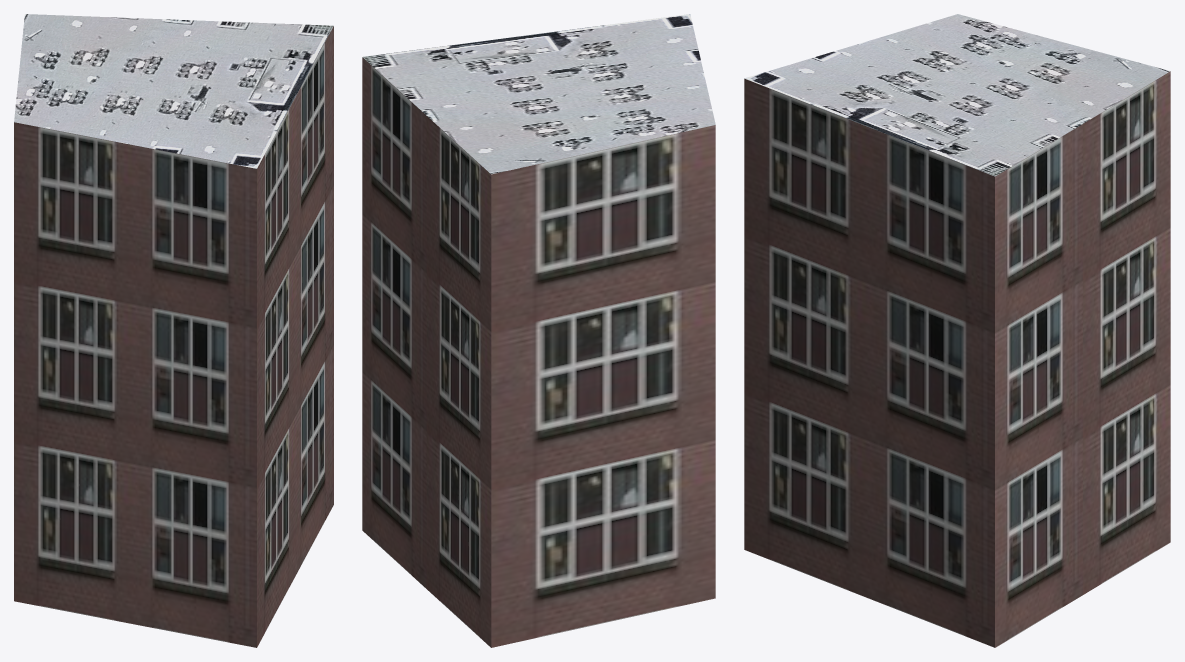
The model's file is ResTex__4886.fbx.
3 views of the same model, side by side, from view 1: azimuth 30°, elevation 25°; view 2: azimuth 150°, elevation 25°; view 3: azimuth 270°, elevation 25° (orthographic).
Visible parts, largest first — view 1: CityEngineMaterial_12_m, CityEngineMaterial_m; view 2: CityEngineMaterial_12_m, CityEngineMaterial_m; view 3: CityEngineMaterial_12_m, CityEngineMaterial_m.
Part boxes in pixels (x1,y1,x2,y2): CityEngineMaterial_12_m: (14,26,333,647); CityEngineMaterial_m: (14,14,333,168); CityEngineMaterial_12_m: (362,57,715,647); CityEngineMaterial_m: (362,14,715,174); CityEngineMaterial_12_m: (744,71,1170,647); CityEngineMaterial_m: (744,14,1170,176).
Size of the model in its own units: 6.66 by 9 by 7.38.
2 materials, 2 textured.
